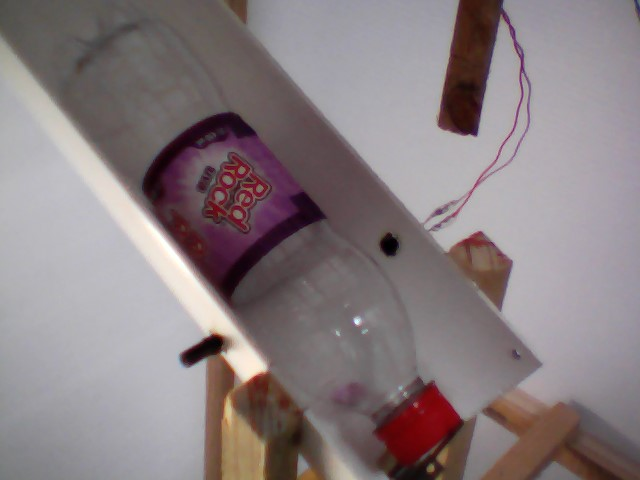plastico: (46, 5, 466, 469)
